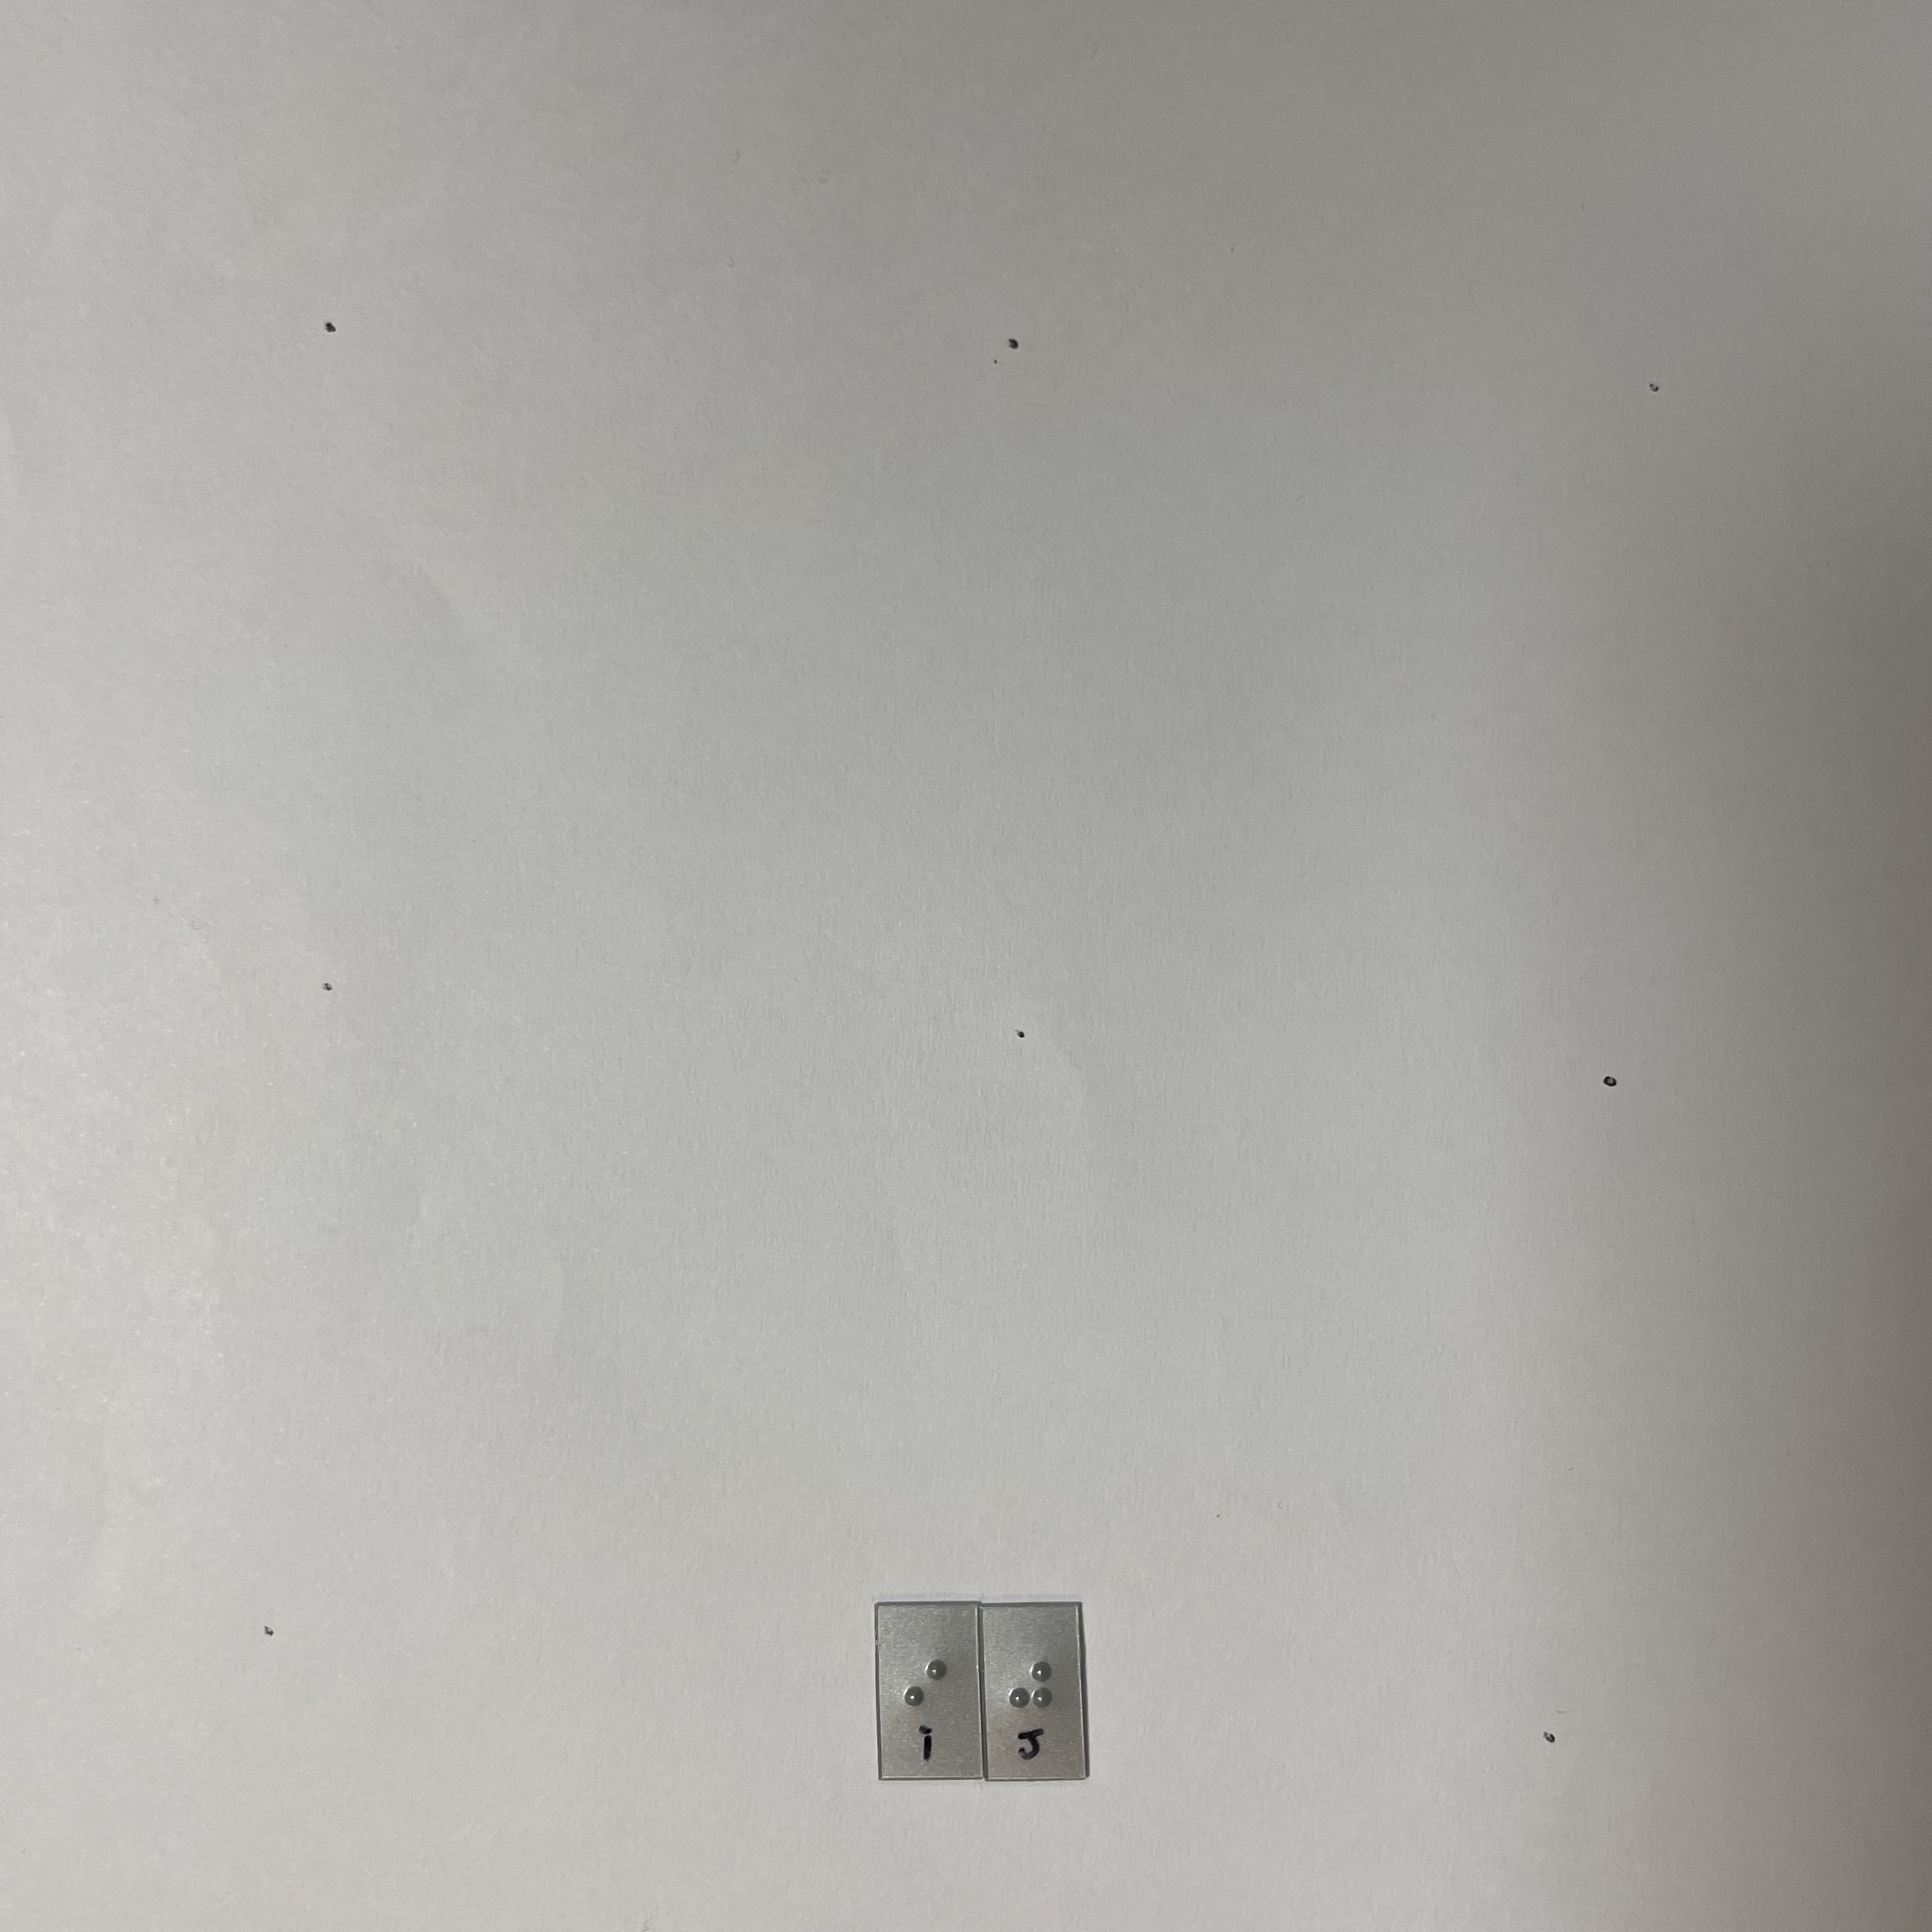i: (900, 1650, 956, 1735)
j: (1001, 1652, 1068, 1737)
